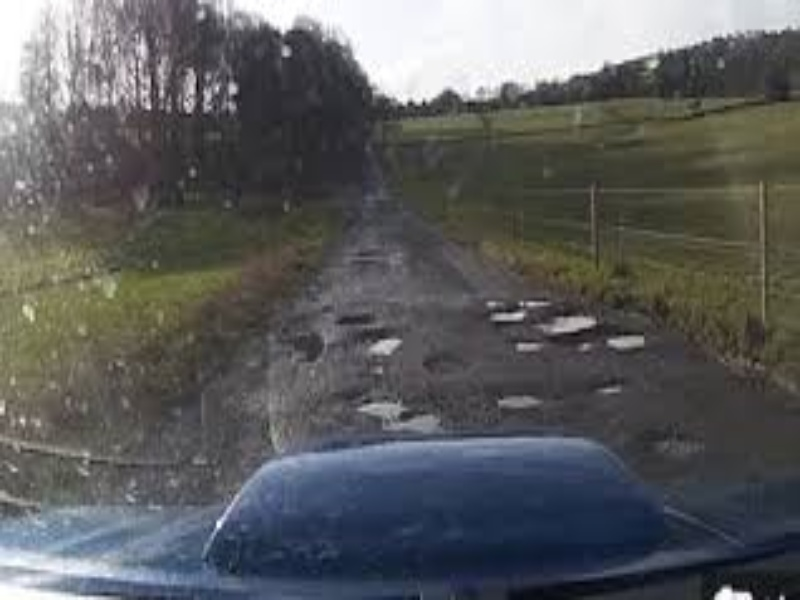pothole: (530, 314, 601, 337), (381, 418, 450, 437), (600, 328, 651, 353), (353, 399, 411, 418), (365, 333, 406, 355), (496, 392, 545, 410), (489, 310, 530, 321)
